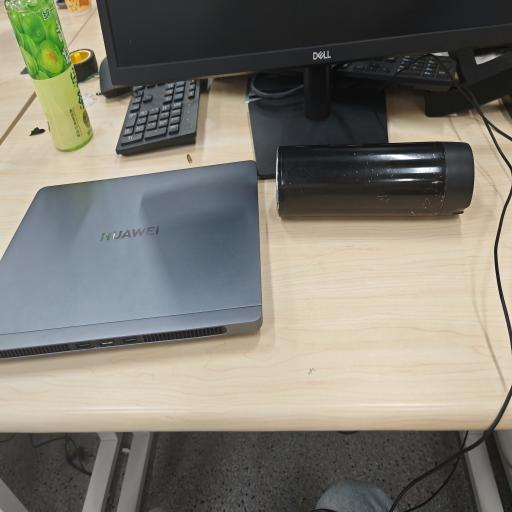laptop: (0, 161, 262, 358)
mouse: (96, 58, 136, 99)
